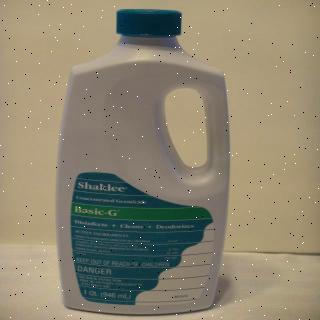Plastic-bottle: (51, 1, 237, 319)
